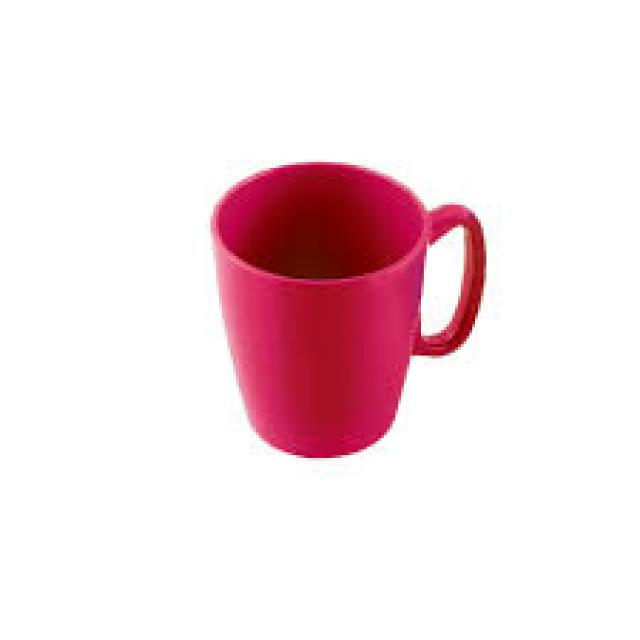Cangkir: (198, 134, 496, 492)
